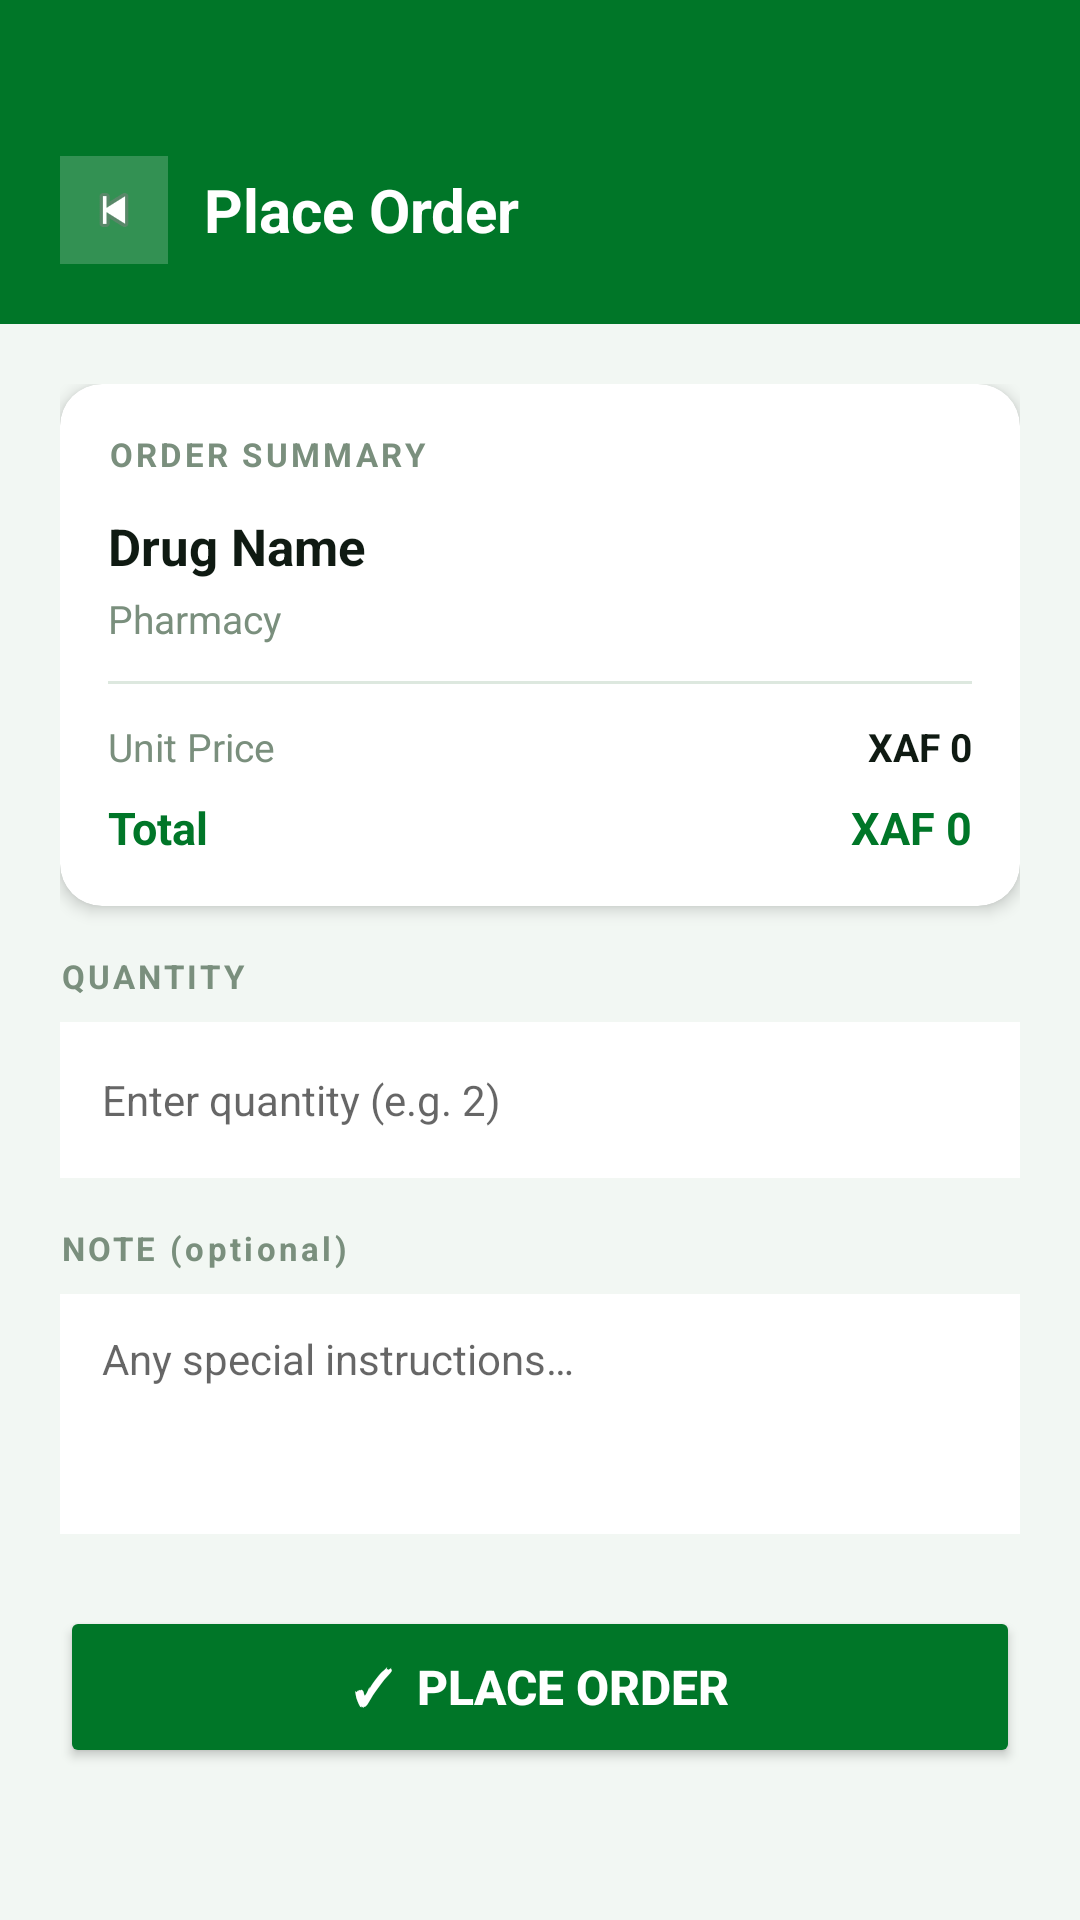

Named icons in this screenshot (1080w x 1920h) and their bounding boxes, [left=x1, top=y1, right=x2, bottom=y2]:
previous: [left=60, top=156, right=168, bottom=264]
